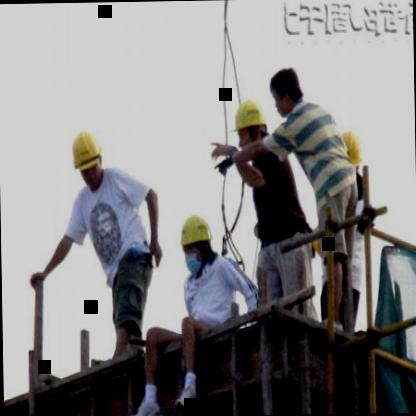head: (266, 61, 308, 116)
helmet: (230, 90, 273, 159), (69, 123, 106, 193), (178, 209, 214, 268), (336, 130, 366, 172)
